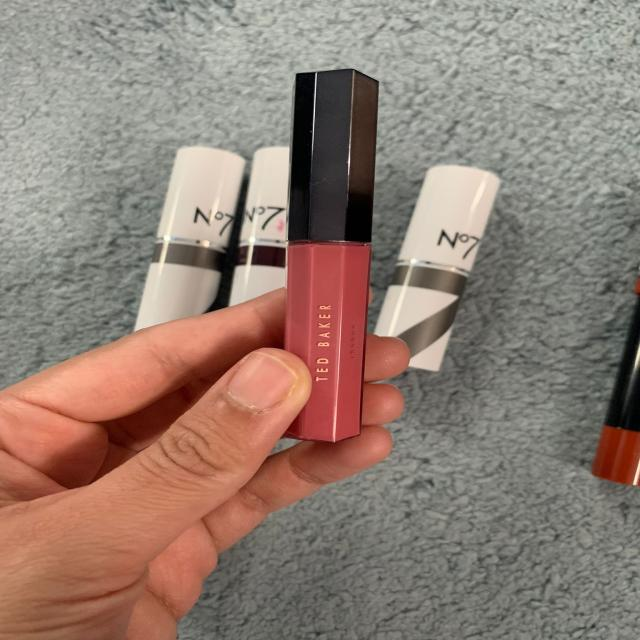lip gloss: (261, 51, 395, 456)
lip stick: (371, 151, 511, 384)
